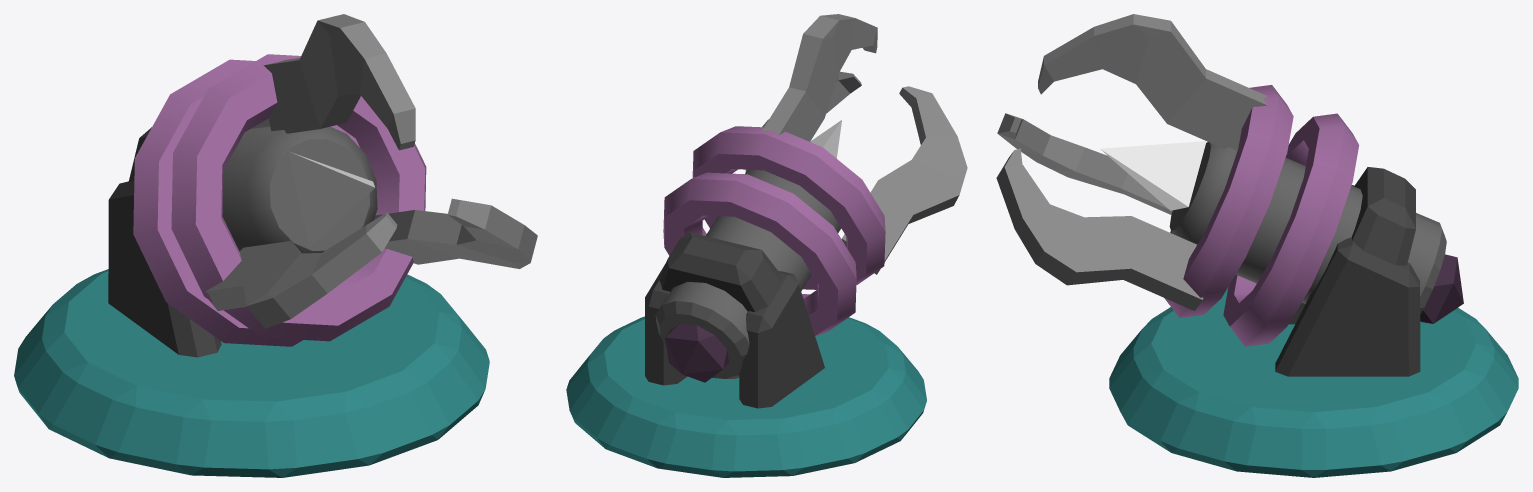
Rendered from plasma.fbx.
The picture shows the model from 3 angles, left to right: view 1: azimuth 30°, elevation 25°; view 2: azimuth 150°, elevation 25°; view 3: azimuth 270°, elevation 25°; orthographic projection. The views are drawn at different scales.
Parts seen in each view (by area): view 1: turret, base; view 2: turret, base; view 3: turret, base.
Part boxes in pixels (x1,y1,x2,y2): turret: (108, 14, 537, 357); base: (14, 269, 489, 477); turret: (645, 14, 967, 408); base: (566, 316, 926, 477); turret: (996, 14, 1463, 376); base: (1109, 287, 1518, 477).
Size of the model in its own units: 93.84 by 94.08 by 120.
